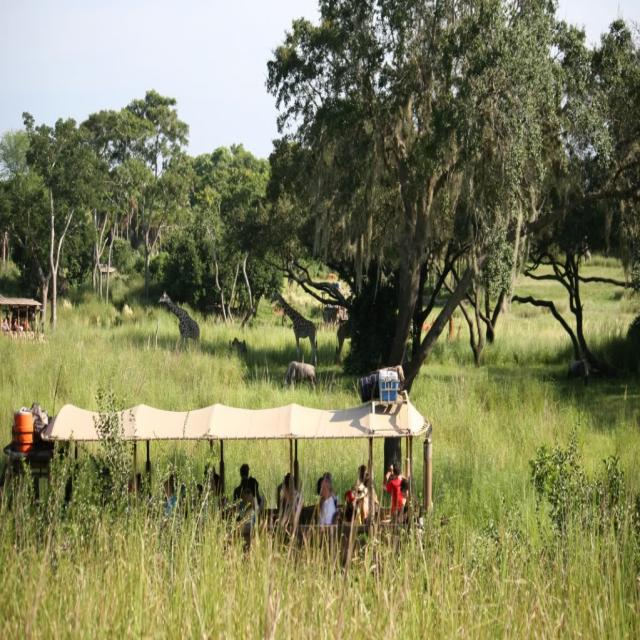body: (114, 463, 380, 543), (258, 472, 304, 556), (382, 474, 411, 531), (382, 462, 406, 524), (232, 462, 262, 505), (318, 476, 337, 525), (354, 466, 369, 524), (0, 314, 31, 333)
